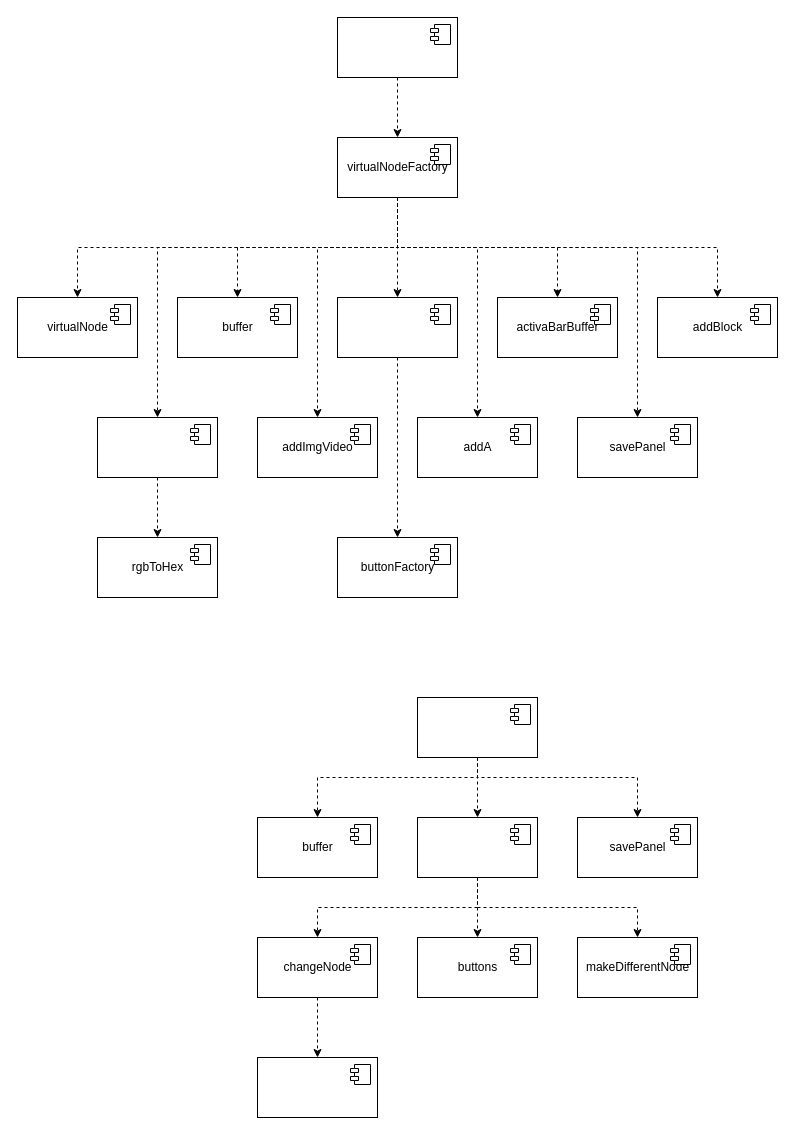
This 795x1135 diagram has some shape labels left out. Each missing label, with the centre of its shape:
"buttonBar" belongs at pixel 397 327.
"changeBlock" belongs at pixel 157 447.
"colorChanger" belongs at pixel 317 1087.
"index" belongs at pixel 397 47.
"node" belongs at pixel 477 847.
"service" belongs at pixel 477 727.
